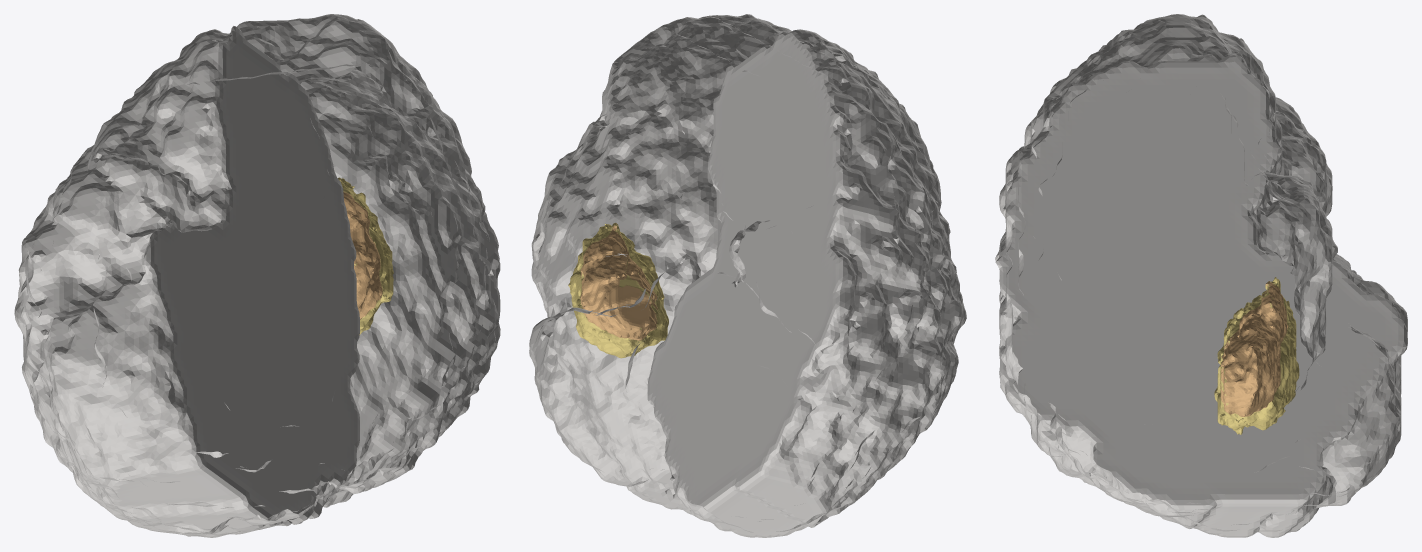
3 views of the same model, side by side, from view 1: azimuth 30°, elevation 25°; view 2: azimuth 150°, elevation 25°; view 3: azimuth 270°, elevation 25° (orthographic). The views are drawn at different scales.
Parts seen in each view (by area): view 1: brain_left, brain_right, core, edema; view 2: brain_left, brain_right, core, edema; view 3: brain_right, brain_left, core, edema.
Part boxes in pixels (x1,y1,x2,y2): brain_left: [14, 26, 359, 537]; brain_right: [237, 14, 500, 524]; core: [343, 192, 382, 319]; edema: [338, 177, 393, 334]; brain_left: [647, 29, 966, 537]; brain_right: [529, 14, 791, 514]; core: [580, 223, 657, 340]; edema: [568, 222, 668, 358]; brain_right: [995, 55, 1407, 537]; brain_left: [995, 14, 1407, 395]; core: [1220, 281, 1288, 416]; edema: [1214, 277, 1299, 434].
Bounding box in the file's own units: 144 × 160 × 132.
